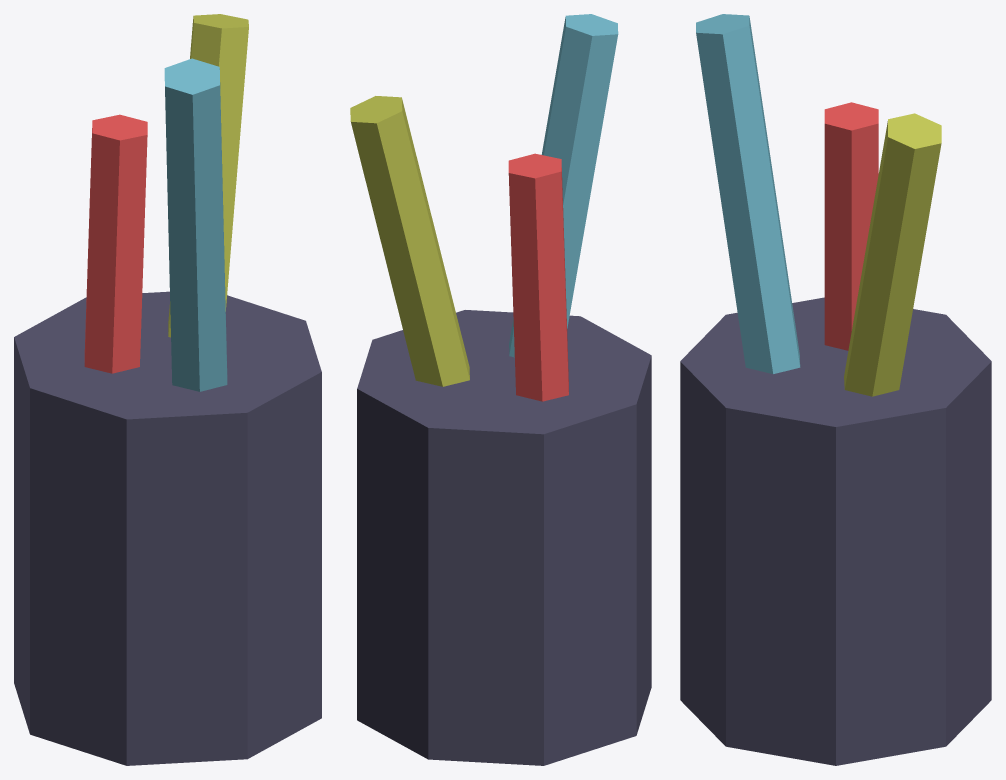
Rendered from cup.glb.
3 views of the same model, side by side, from view 1: azimuth 30°, elevation 25°; view 2: azimuth 150°, elevation 25°; view 3: azimuth 270°, elevation 25° (orthographic). The views are drawn at different scales.
Visible parts, largest first — view 1: Cup, P2, P1, P0; view 2: Cup, P0, P1, P2; view 3: Cup, P2, P0, P1.
Boxes of the visible parts, x1,y1,x2,y2 form: Cup: (14,291,321,765); P2: (164,58,227,391); P1: (84,114,147,373); P0: (168,14,248,337); Cup: (357,310,651,765); P0: (350,96,469,386); P1: (508,153,568,401); P2: (509,14,618,357); Cup: (680,297,991,765); P2: (696,14,800,374); P0: (844,113,941,396); P1: (824,102,878,350).
Size of the model in its own units: 1 by 2.36 by 1.
